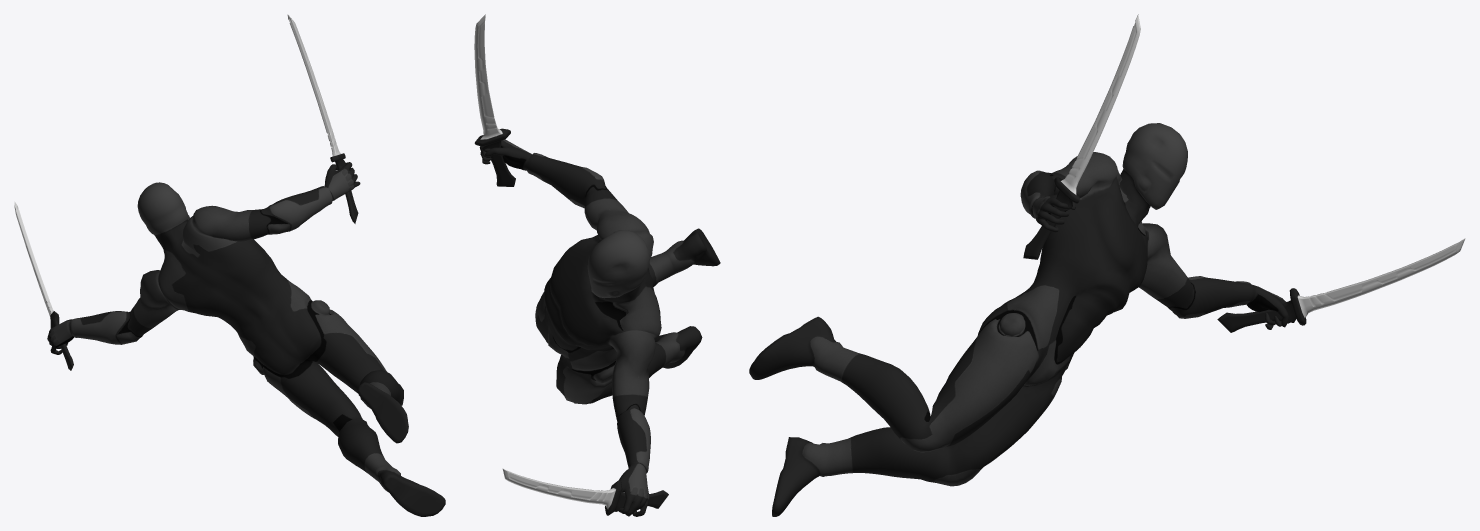
The picture shows the model from 3 angles, left to right: view 1: azimuth 30°, elevation 25°; view 2: azimuth 150°, elevation 25°; view 3: azimuth 270°, elevation 25°; orthographic projection. The views are drawn at different scales.
Visible parts, largest first — view 1: Cyborg_Ninja_Killer, Sword_l001, Sword_l; view 2: Cyborg_Ninja_Killer, Sword_l001, Sword_l; view 3: Cyborg_Ninja_Killer, Sword_l, Sword_l001.
Part boxes in pixels (x1,y1,x2,y2): Cyborg_Ninja_Killer: [47, 162, 445, 516]; Sword_l001: [287, 14, 358, 223]; Sword_l: [14, 201, 73, 370]; Cyborg_Ninja_Killer: [479, 139, 720, 516]; Sword_l001: [474, 14, 515, 186]; Sword_l: [502, 468, 668, 515]; Cyborg_Ninja_Killer: [749, 123, 1289, 516]; Sword_l: [1217, 238, 1465, 332]; Sword_l001: [1023, 14, 1140, 259].
Bounding box in the file's own units: 103 × 176 × 228.
Materials: 2 (2 with a texture image).
